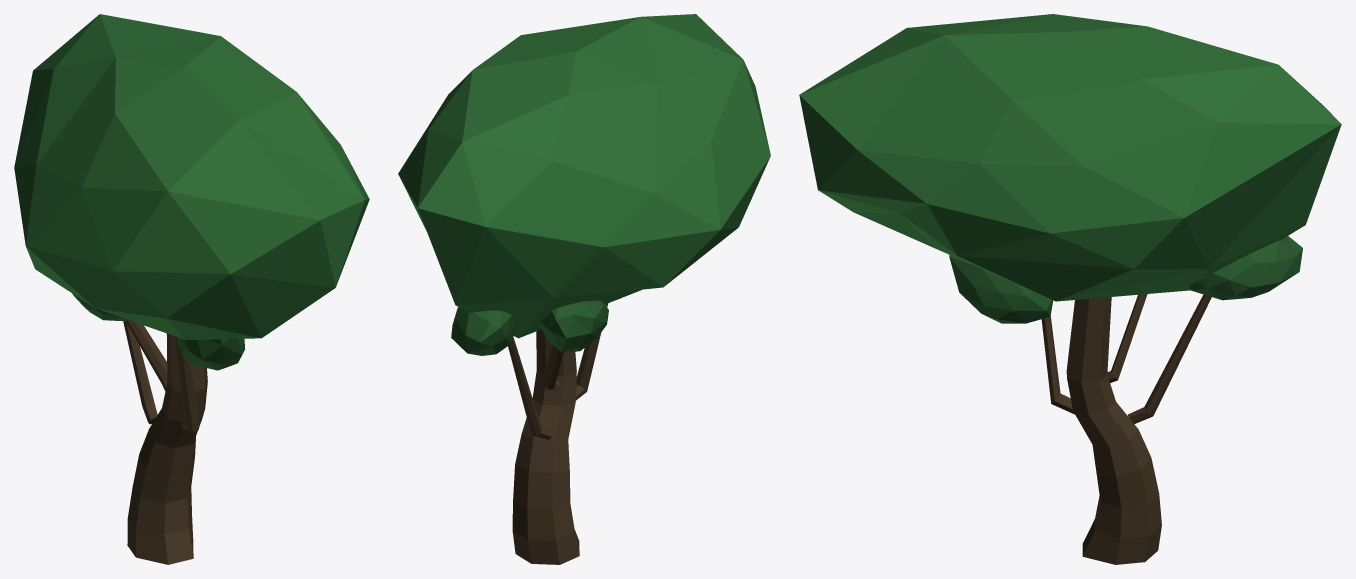
Rendered from tree_moody_bent.glb.
3 views of the same model, side by side, from view 1: azimuth 30°, elevation 25°; view 2: azimuth 150°, elevation 25°; view 3: azimuth 270°, elevation 25° (orthographic). The views are drawn at different scales.
Parts seen in each view (by area): view 1: LeafLobe.001, Trunk, LeafLobe.003, Branch.002, Branch.001, Branch.003; view 2: LeafLobe.001, Trunk, LeafLobe.004, LeafLobe.002, Branch.001, Branch.002, Branch.003; view 3: LeafLobe.001, Trunk, LeafLobe.002, LeafLobe.003, Branch.001, Branch.002, Branch.003.
Boxes of the visible parts, x1,y1,x2,y2 form: LeafLobe.001: (14, 14, 369, 340); Trunk: (127, 333, 207, 564); LeafLobe.003: (177, 337, 244, 370); Branch.002: (174, 336, 199, 432); Branch.001: (123, 321, 157, 424); Branch.003: (126, 320, 167, 391); LeafLobe.001: (398, 14, 770, 338); Trunk: (512, 329, 579, 564); LeafLobe.004: (539, 300, 608, 351); LeafLobe.002: (451, 307, 515, 355); Branch.001: (508, 336, 552, 439); Branch.002: (575, 303, 608, 400); Branch.003: (541, 345, 563, 390); LeafLobe.001: (799, 14, 1341, 301); Trunk: (1066, 297, 1161, 564); LeafLobe.002: (1189, 236, 1302, 300); LeafLobe.003: (949, 255, 1053, 323); Branch.001: (1128, 294, 1211, 423); Branch.002: (1041, 316, 1074, 414); Branch.003: (1107, 294, 1147, 382).
Bounding box in the file's own units: 17.05 × 26.91 × 25.57.
